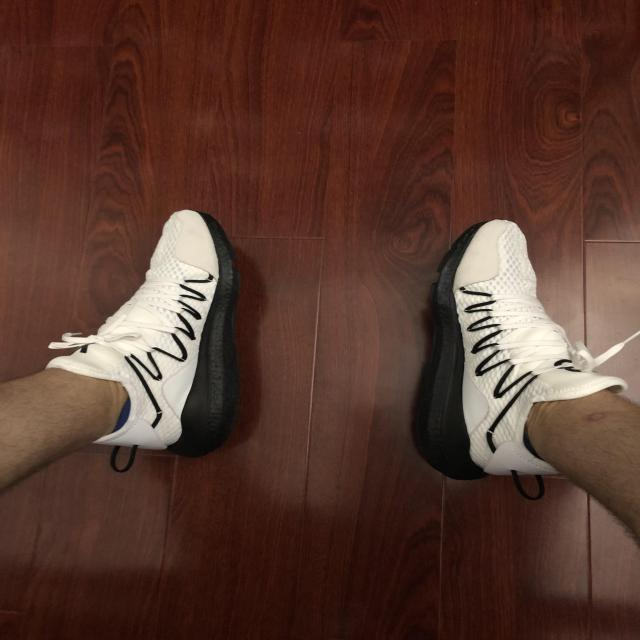shoe: (411, 218, 626, 488), (47, 206, 244, 472)
